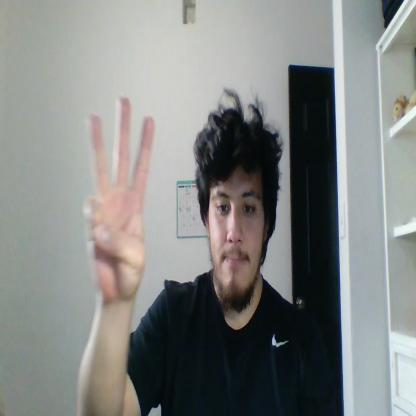W: (83, 96, 155, 298)
